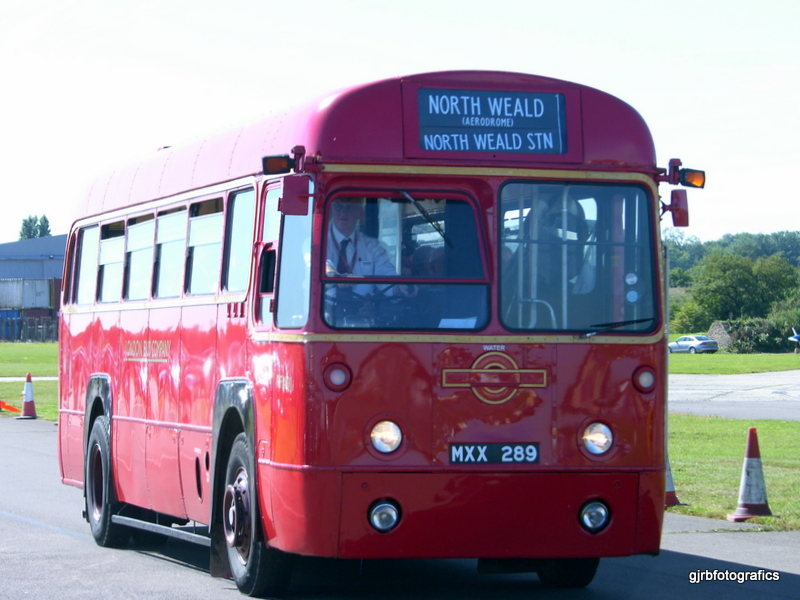bus: (57, 72, 690, 596)
